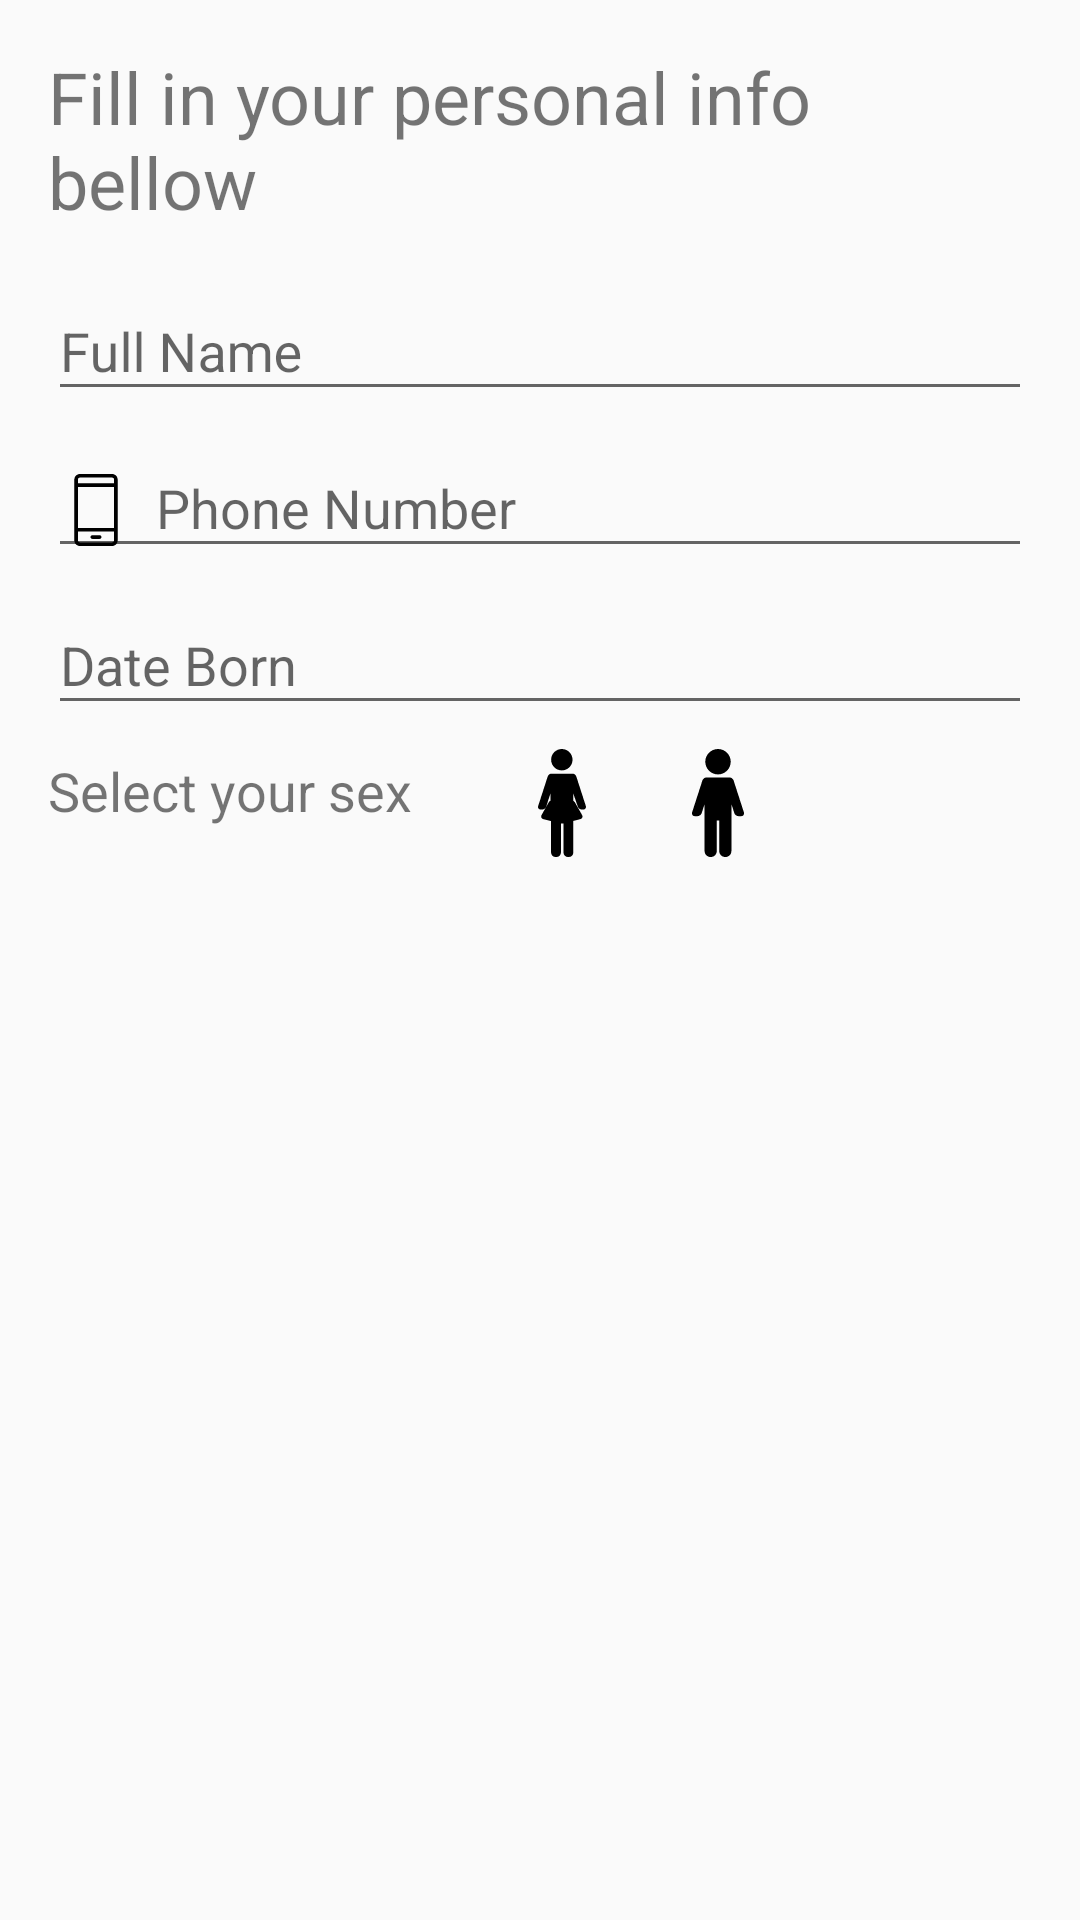

Screen size 1080×1920. Icon name, then its box in pixels as box=[x1, y1, x2, y2]:
custom radio female: box=[538, 749, 586, 857]
custom radio male: box=[692, 749, 744, 857]
